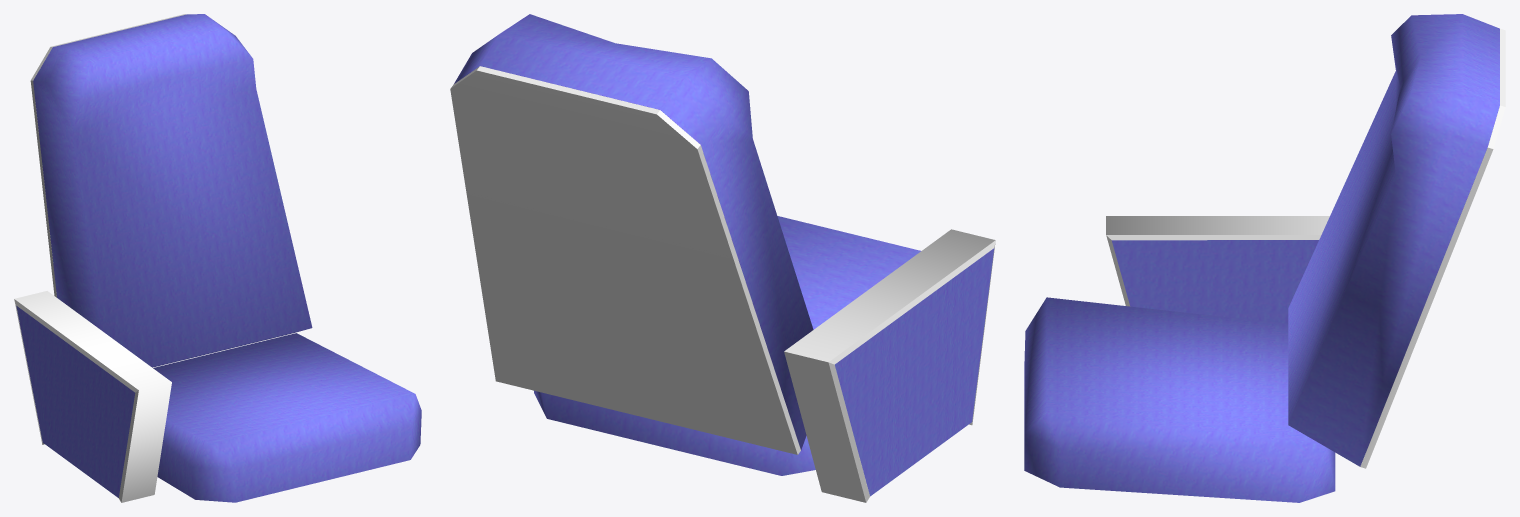
File: chair.fbx
3 views of the same model, side by side, from view 1: azimuth 30°, elevation 25°; view 2: azimuth 150°, elevation 25°; view 3: azimuth 270°, elevation 25° (orthographic). The views are drawn at different scales.
Visible parts, largest first — view 1: Chair, ChairBack; view 2: ChairBack, Chair; view 3: Chair, ChairBack.
Part boxes in pixels (left/top/right/bottom): Chair: left=16, top=14, right=421, bottom=502; ChairBack: left=14, top=14, right=186, bottom=502; ChairBack: left=450, top=66, right=995, bottom=502; Chair: left=454, top=14, right=994, bottom=496; Chair: left=1024, top=14, right=1499, bottom=502; ChairBack: left=1106, top=28, right=1505, bottom=468.
Bounding box in the file's own units: 69.94 × 84.92 × 93.87.
